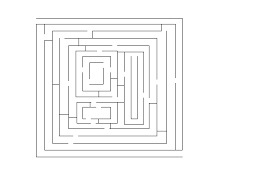maze: (36, 18, 184, 158)
